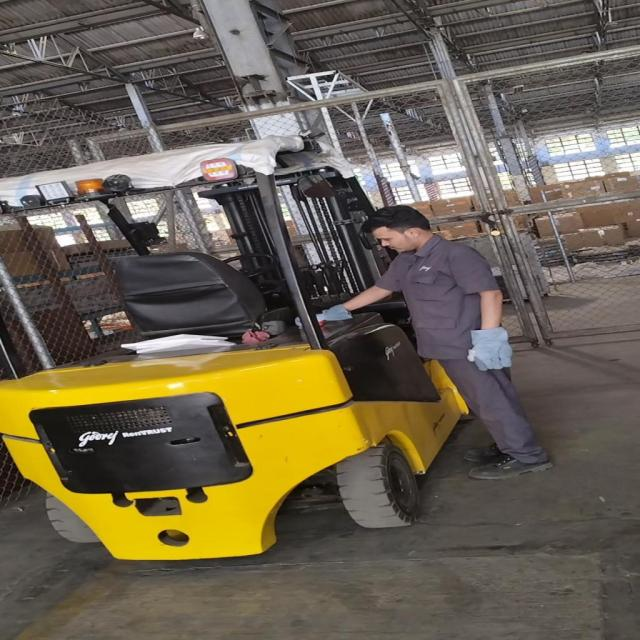Gloves-Detection: (461, 329, 514, 375), (318, 303, 348, 329)
